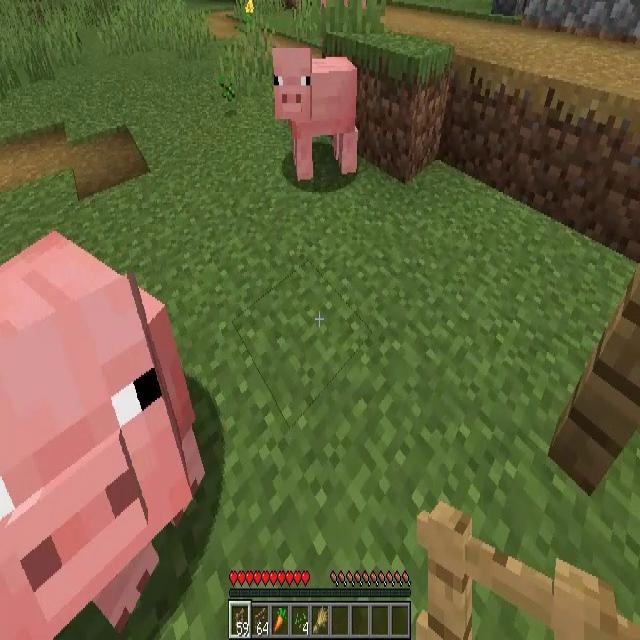flower: (244, 0, 254, 14)
pig: (0, 234, 204, 638), (274, 48, 357, 174)
